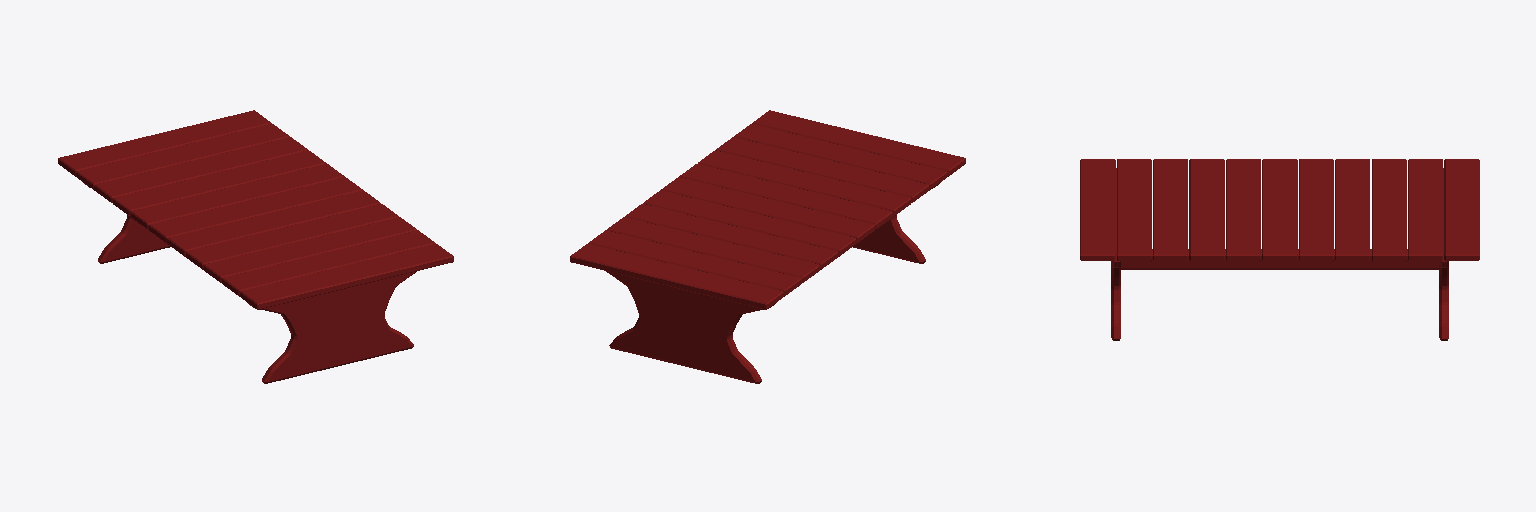
Rendered from tableObj.obj.
The picture shows the model from 3 angles: view 1: azimuth 30°, elevation 25°; view 2: azimuth 150°, elevation 25°; view 3: azimuth 270°, elevation 25°; orthographic projection.
Parts seen in each view (by area): view 1: pCube13, pCube11, pCube7, pCube3, pCube4, pCube1, pCube6, pCube2, pCube10, pCube9, pCube8, pCube5 (+1 smaller); view 2: pCube12, pCube1, pCube9, pCube8, pCube6, pCube4, pCube2, pCube10, pCube11, pCube5, pCube3, pCube7 (+1 smaller); view 3: pCube1, pCube8, pCube6, pCube11, pCube10, pCube9, pCube7, pCube5, pCube3, pCube2, pCube4, pCube14 (+2 smaller).
Boxes of the visible parts, box(x1,y1,x2,y2) form: pCube13: box(248, 271, 416, 383); pCube11: box(240, 244, 453, 309); pCube7: box(167, 190, 380, 256); pCube3: box(94, 137, 307, 202); pCube4: box(113, 150, 326, 216); pCube1: box(58, 110, 271, 176); pCube6: box(149, 177, 362, 242); pCube2: box(76, 124, 289, 189); pCube10: box(222, 230, 435, 296); pCube9: box(204, 217, 416, 282); pCube8: box(186, 204, 398, 269); pCube5: box(131, 164, 344, 229); pCube12: box(606, 271, 775, 383); pCube1: box(570, 244, 783, 309); pCube9: box(716, 137, 929, 202); pCube8: box(698, 150, 910, 216); pCube6: box(661, 177, 874, 242); pCube4: box(625, 204, 838, 269); pCube2: box(588, 230, 801, 296); pCube10: box(734, 124, 947, 189); pCube11: box(752, 110, 965, 176); pCube5: box(643, 190, 856, 256); pCube3: box(607, 217, 819, 282); pCube7: box(679, 164, 892, 229); pCube1: box(1444, 159, 1479, 260); pCube8: box(1189, 159, 1224, 260); pCube6: box(1262, 159, 1297, 260); pCube11: box(1080, 159, 1115, 260); pCube10: box(1117, 159, 1151, 260); pCube9: box(1153, 159, 1187, 260); pCube7: box(1226, 159, 1260, 260); pCube5: box(1299, 159, 1333, 260); pCube3: box(1372, 159, 1406, 260); pCube2: box(1408, 159, 1442, 260); pCube4: box(1335, 159, 1369, 260); pCube14: box(1121, 249, 1438, 269).
Size of the model in its own units: 6.45 by 3.08 by 11.31.